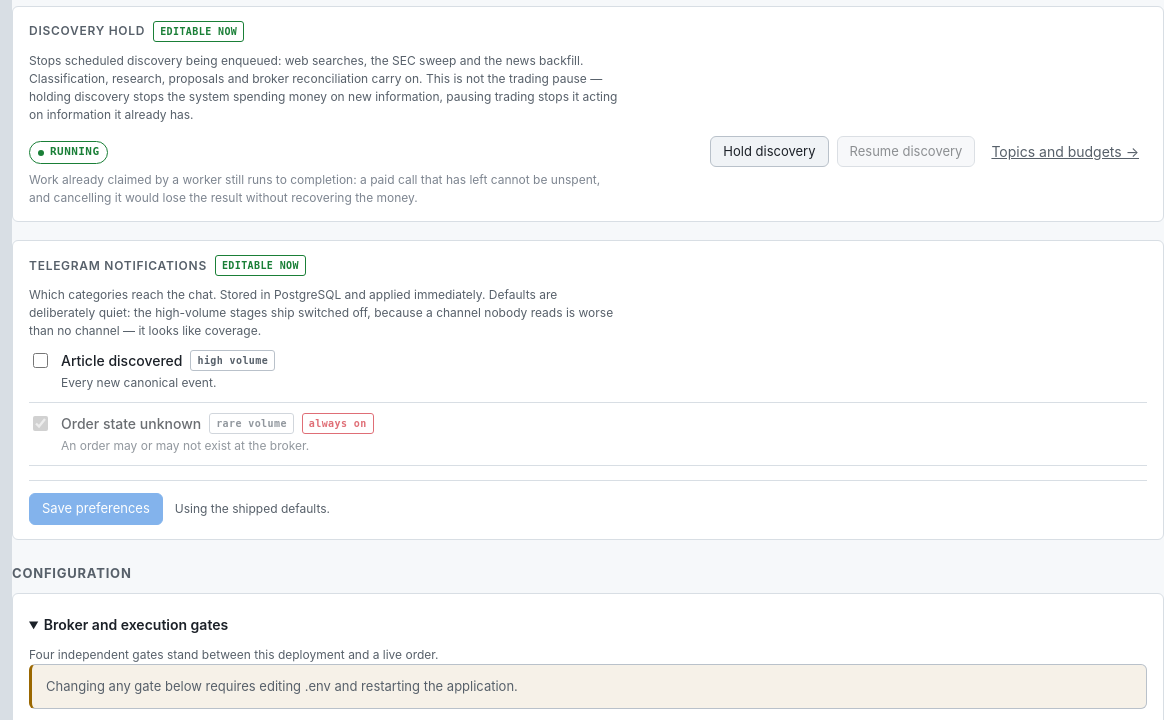
it: Settings: notification preferences › shows the server's refusal rather than pretending the save worked
(page scrolled)
Click the checkbox labelled "Article discovered high volume Every new canonical event.": (40, 360) 33,353 -> 48,368
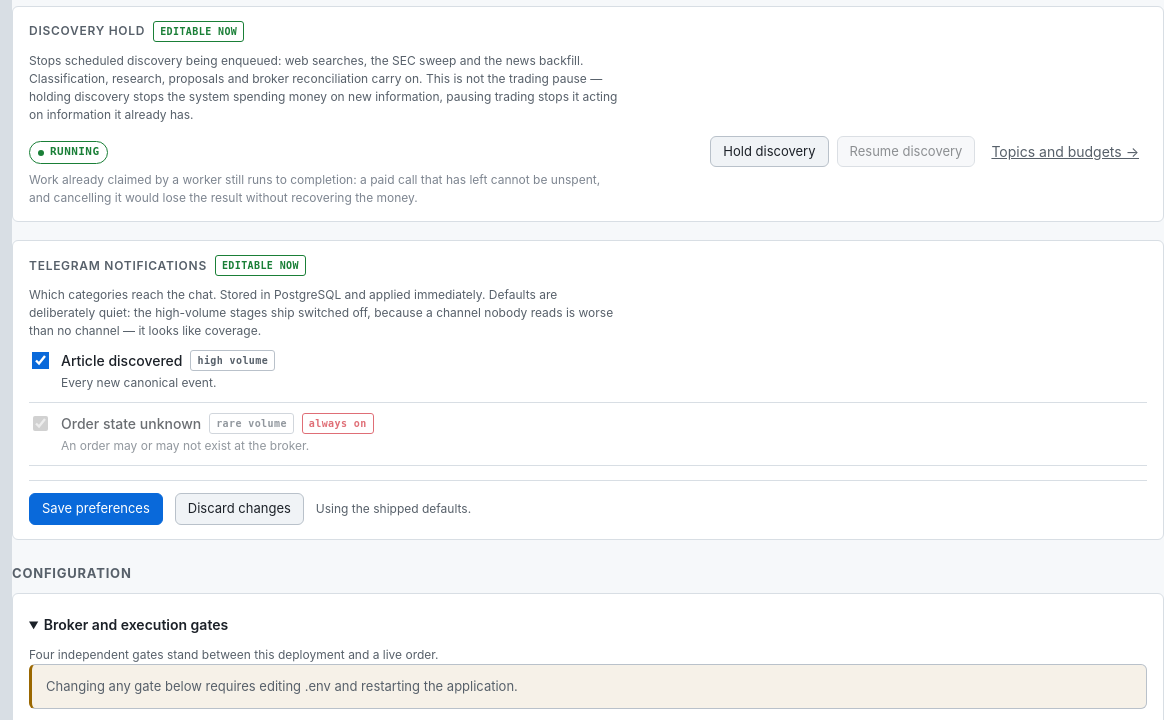
Click the button "Save preferences": (96, 509) 29,493 -> 163,524
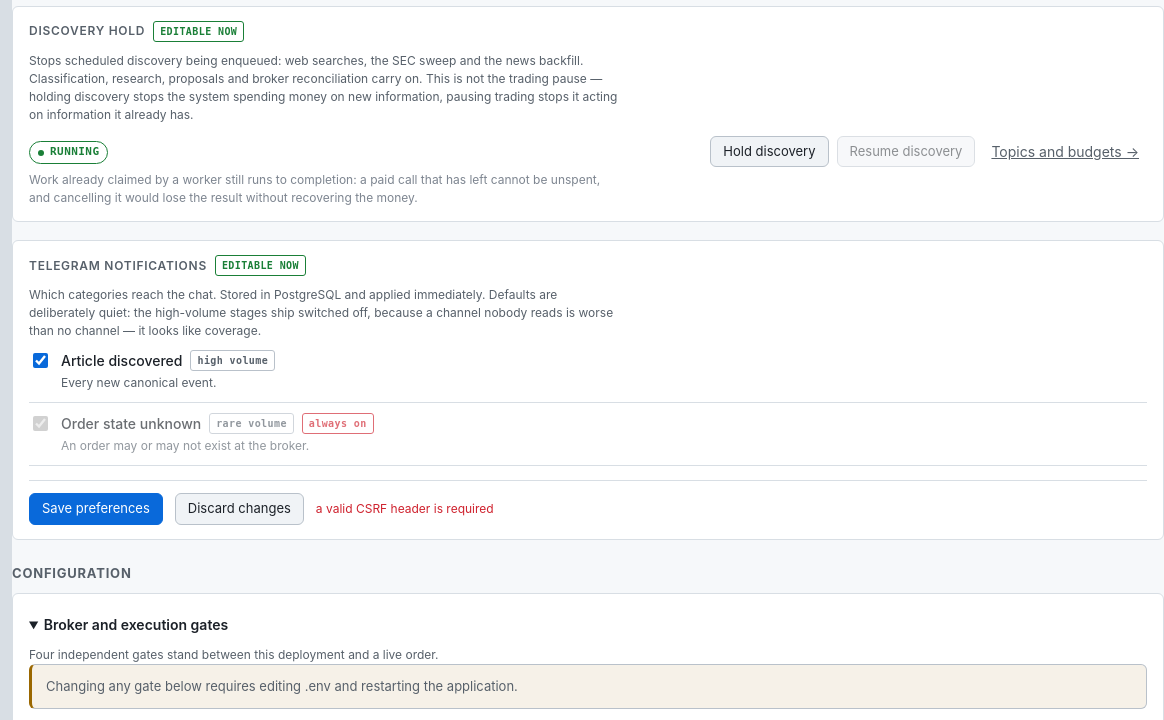
Check: the text "a valid CSRF header is required" is shown, box 316,501 -> 494,516
